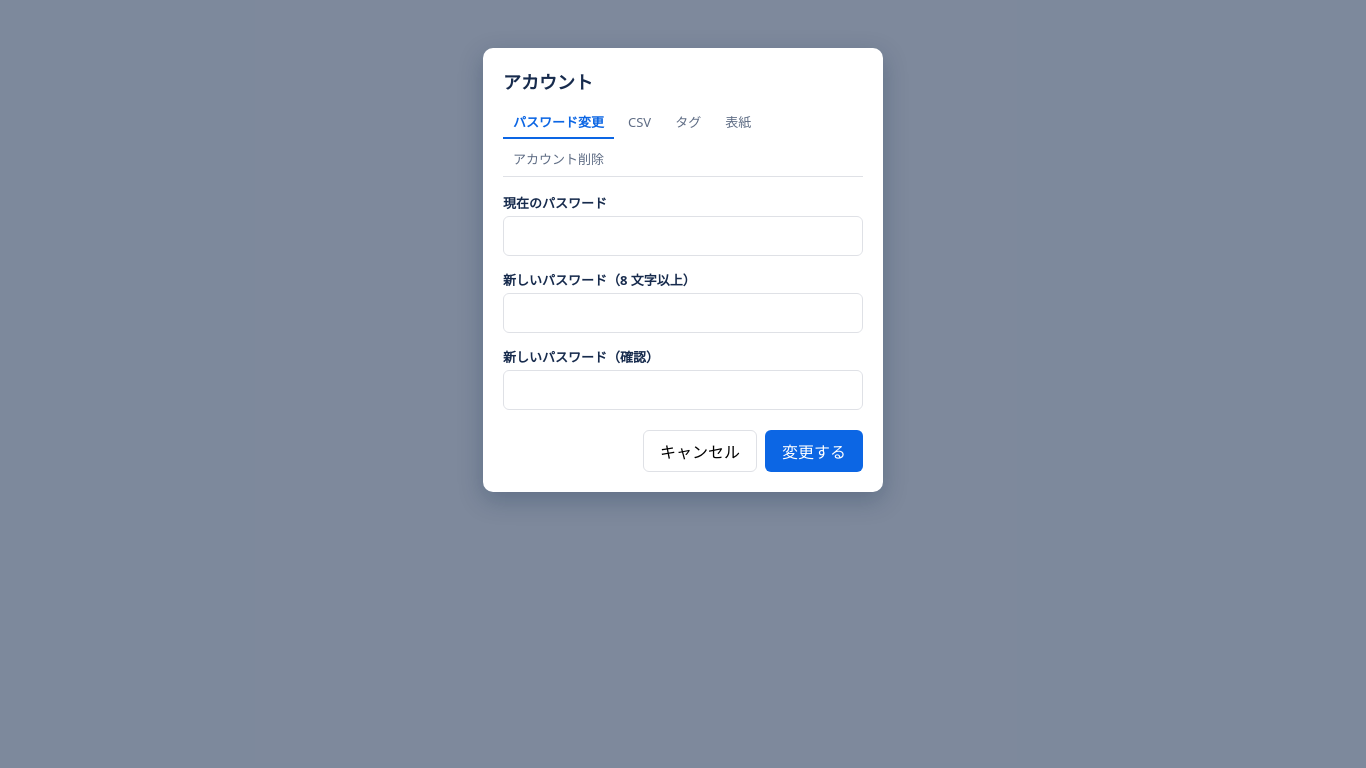
AccountModal（パスワード変更） › 入力値を送信し、成功メッセージを表示する
The image size is (1366, 768).
Type "old-password" into the password field labelled "現在のパスワード" at x=683, y=236, box [503, 216, 863, 256]
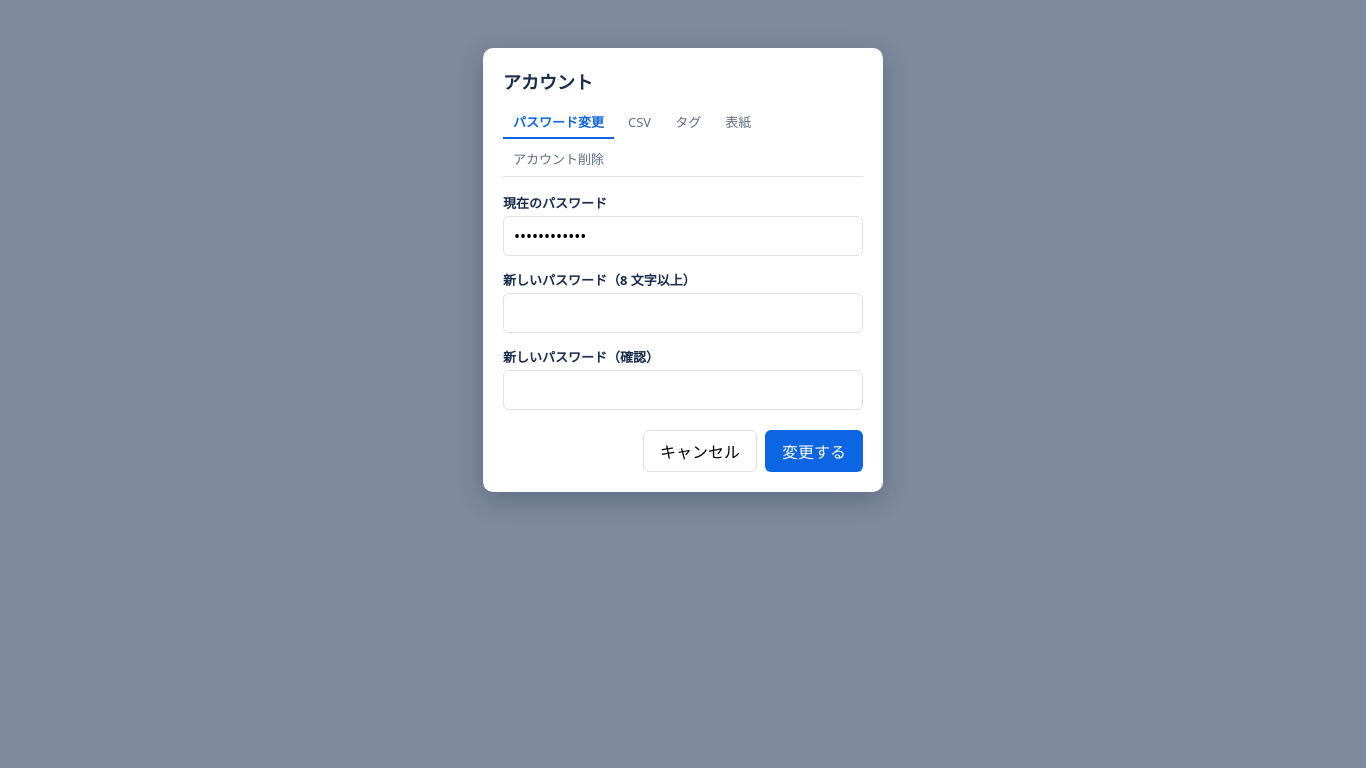
Type "new-password" into the password field labelled "新しいパスワード（8 文字以上）" at x=683, y=313, box [503, 293, 863, 333]
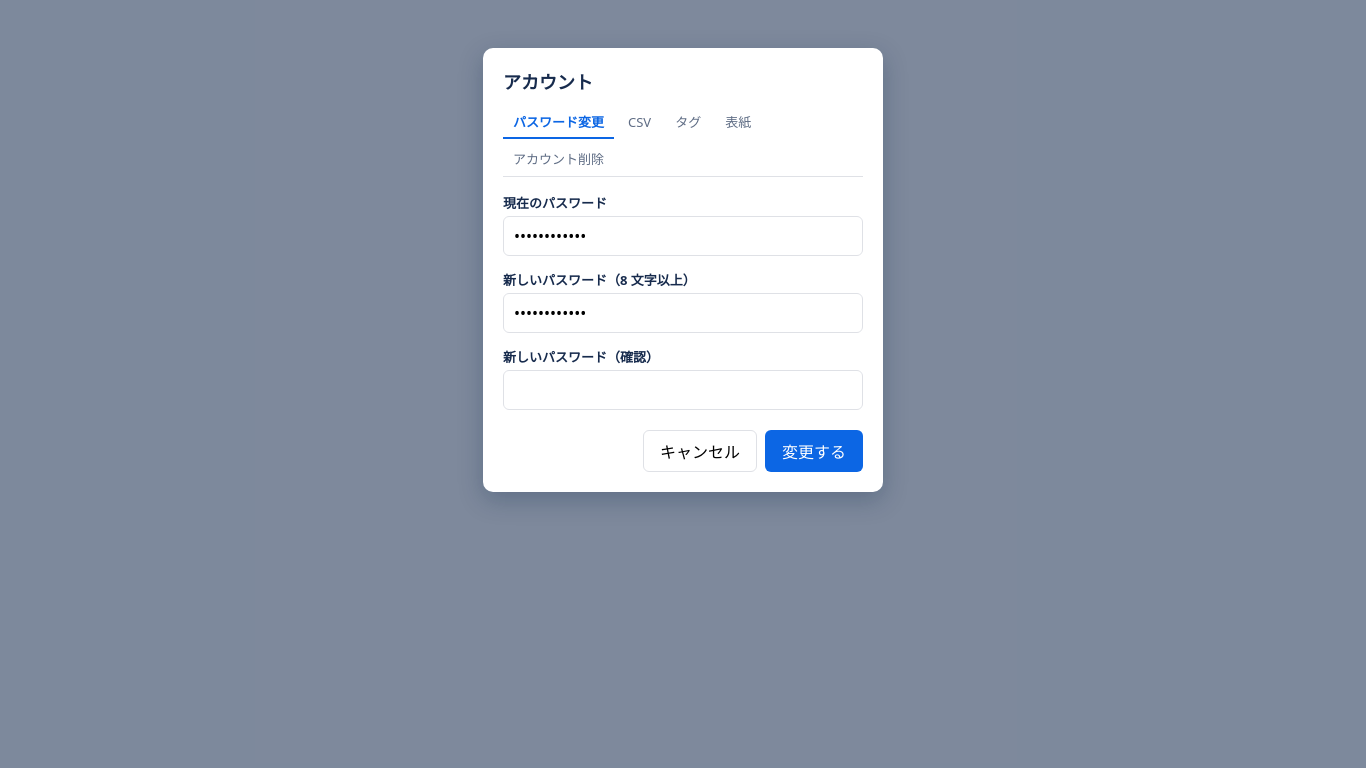
Type "new-password" into the password field labelled "新しいパスワード（確認）" at x=683, y=390, box [503, 370, 863, 410]
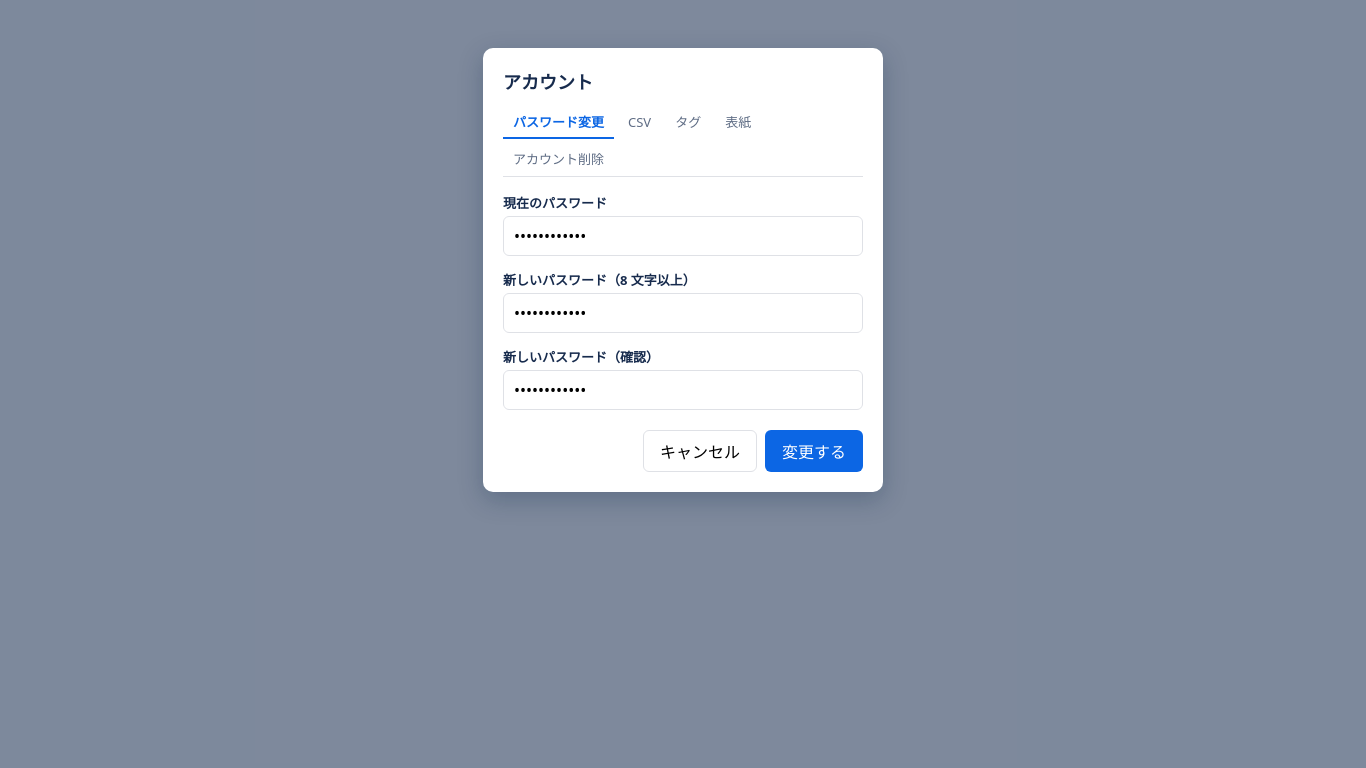
Submit the form, box [503, 193, 863, 472]
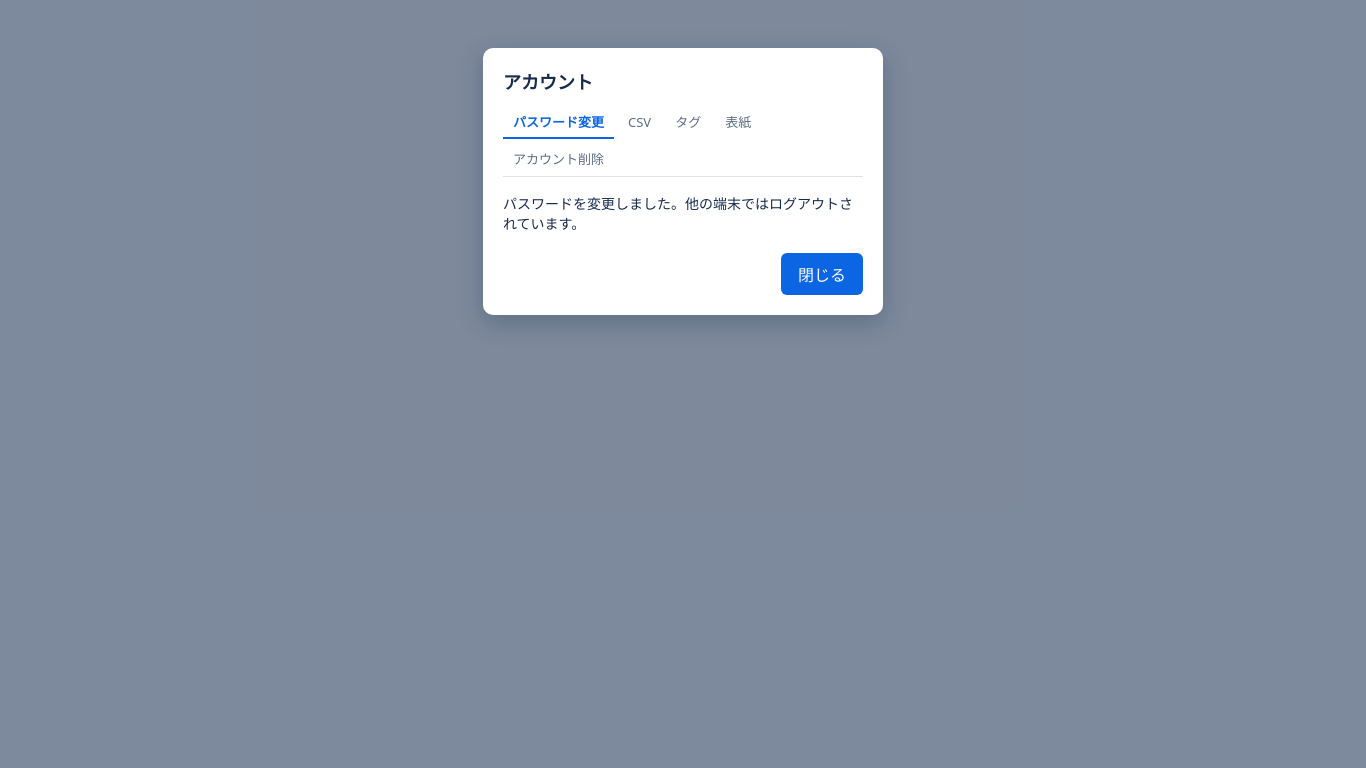
Check: the message "パスワードを変更しました。他の端末ではログアウトされています。" is shown, box [503, 193, 863, 233]
